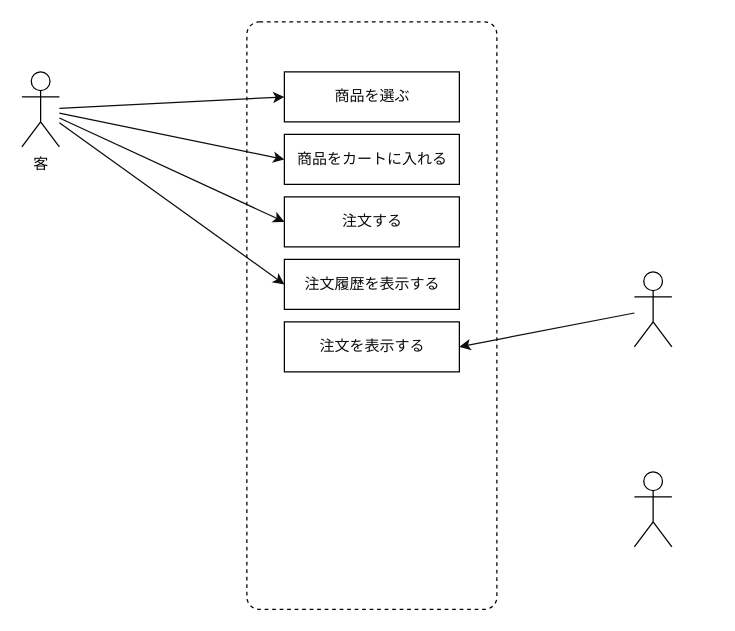
Image size: 735x631. Some labels were removed from this diagram. Each missing label, with the box of its shape:
キッチンスタッフ: (633, 271, 672, 347)
運用者: (633, 471, 672, 547)
